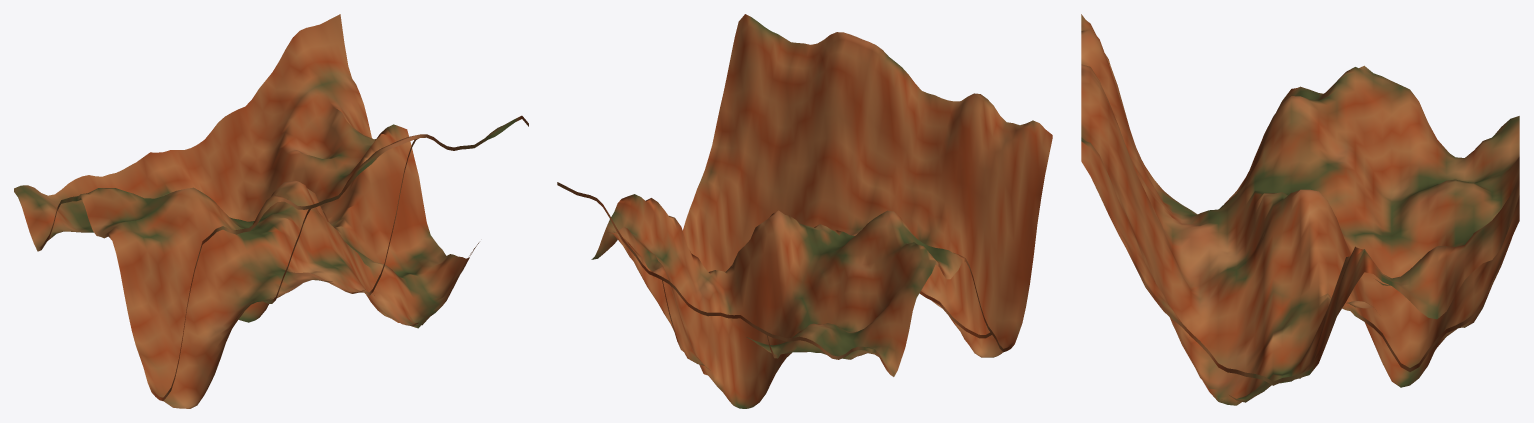
The model's file is terrain-072.glb.
3 renders of one model, left to right at view 1: azimuth 30°, elevation 25°; view 2: azimuth 150°, elevation 25°; view 3: azimuth 270°, elevation 25°, orthographic. The views are drawn at different scales.
Parts seen in each view (by area): view 1: terrain-072; view 2: terrain-072; view 3: terrain-072.
Boxes of the visible parts, x1,y1,x2,y2 form: terrain-072: (14,14,528,408); terrain-072: (557,14,1052,408); terrain-072: (1081,14,1519,405).
Bounding box in the file's own units: 384 × 315 × 384.
